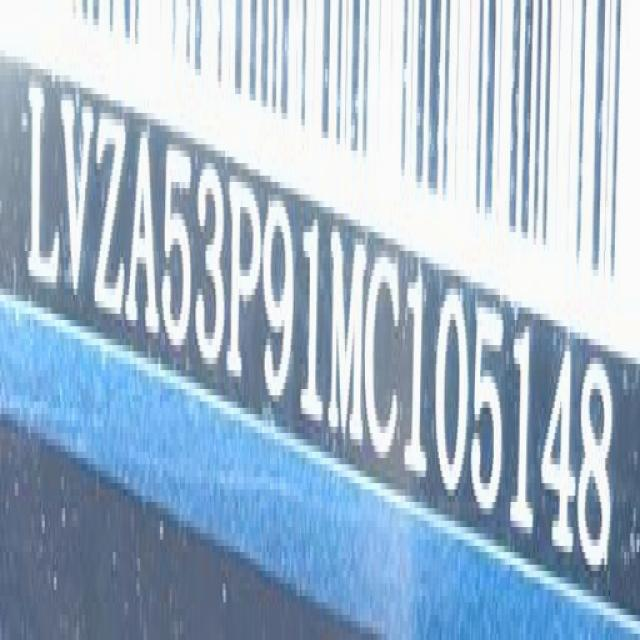0: (437, 276, 467, 502)
1: (404, 262, 431, 500), (304, 199, 325, 442), (513, 305, 532, 540)
3: (196, 149, 228, 383)
4: (546, 322, 576, 571)
5: (473, 287, 505, 523), (163, 128, 193, 359)
8: (582, 352, 614, 584)
9: (263, 186, 295, 417)
A: (130, 118, 160, 344)
C: (369, 239, 402, 475)
L: (28, 68, 59, 302)
M: (329, 217, 365, 463)
P: (228, 170, 264, 424)
V: (60, 79, 94, 327)
Z: (97, 102, 127, 330)
